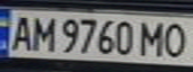0: (115, 18, 139, 56)
6: (97, 17, 118, 56)
7: (75, 16, 96, 55)
9: (57, 16, 81, 54)
A: (6, 12, 36, 52)
M: (136, 19, 169, 57), (27, 14, 57, 52)
O: (160, 20, 193, 58)
